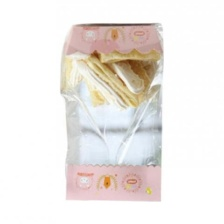snack: (50, 18, 172, 209)
